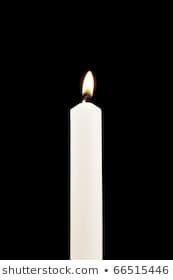fire: (80, 67, 96, 98)
